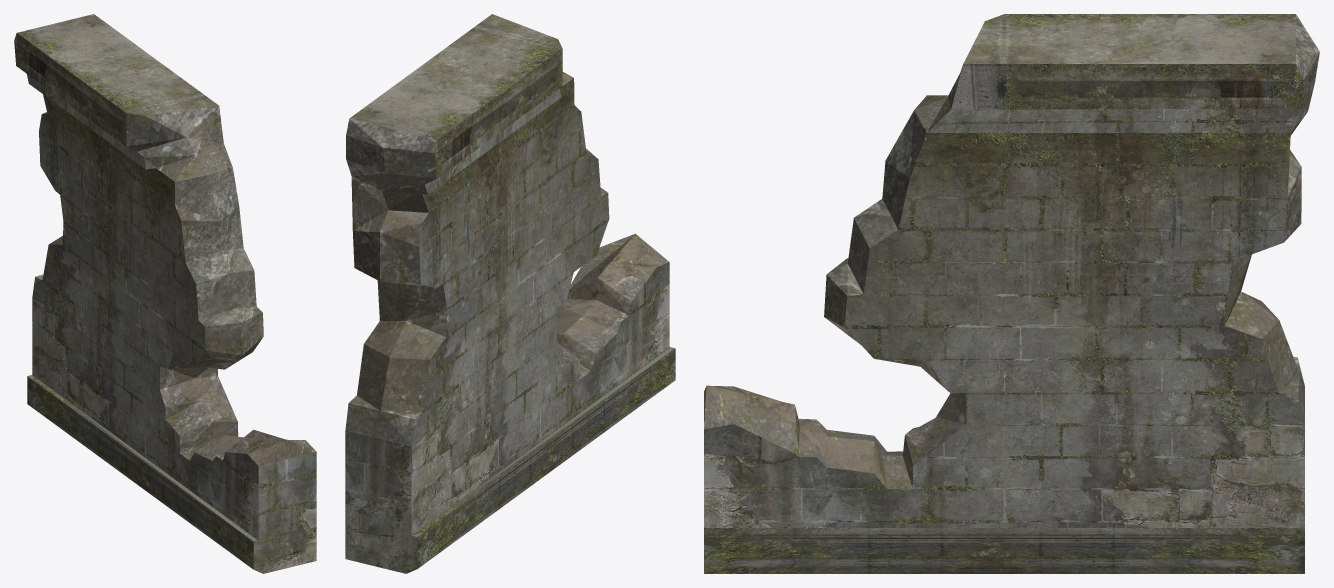
File: bg_lut_lucastle_brosewall02b_sm_psy.FBX
The picture shows the model from 3 angles, left to right: view 1: azimuth 30°, elevation 25°; view 2: azimuth 150°, elevation 25°; view 3: azimuth 270°, elevation 25°; orthographic projection. The views are drawn at different scales.
Visible parts, largest first — view 1: bg_lut_lucastle_brosewall02b_sm_psy; view 2: bg_lut_lucastle_brosewall02b_sm_psy; view 3: bg_lut_lucastle_brosewall02b_sm_psy.
Part boxes in pixels (bbox=[...]): bg_lut_lucastle_brosewall02b_sm_psy: bbox=[14, 14, 316, 573]; bg_lut_lucastle_brosewall02b_sm_psy: bbox=[345, 14, 675, 573]; bg_lut_lucastle_brosewall02b_sm_psy: bbox=[704, 14, 1319, 573].
Size of the model in its own units: 75.75 by 359 by 394.
